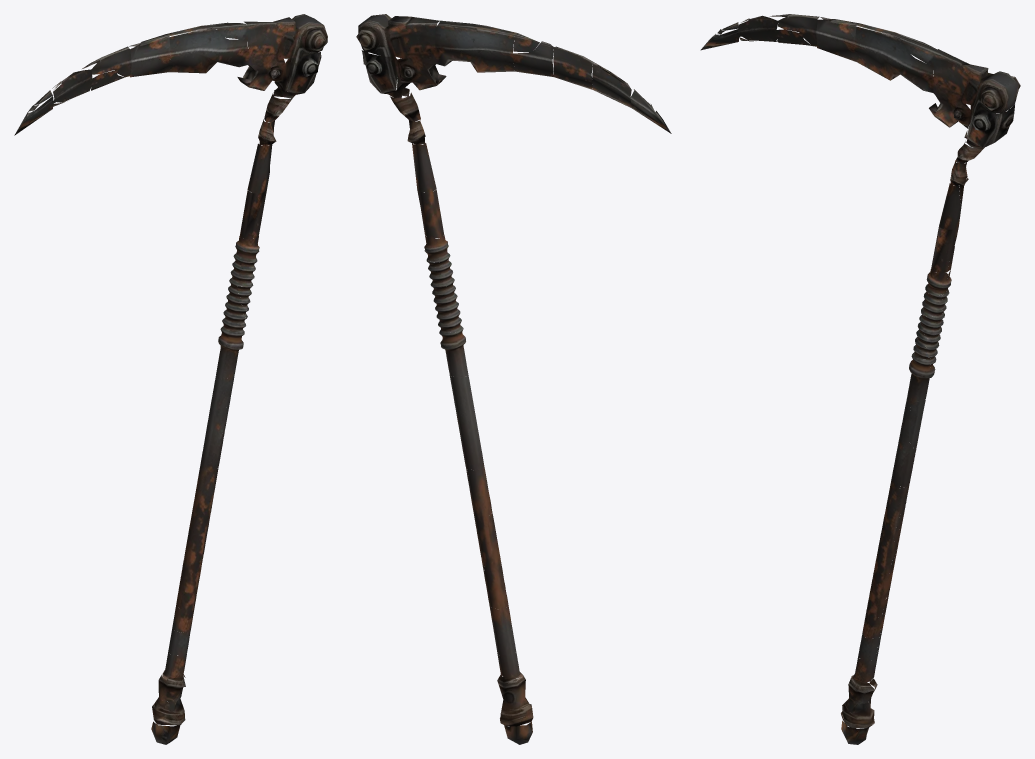
Rendered from ain_scythe_tex.glb.
3 views of the same model, side by side, from view 1: azimuth 30°, elevation 25°; view 2: azimuth 150°, elevation 25°; view 3: azimuth 330°, elevation 25° (orthographic).
Parts seen in each view (by area): view 1: Mesh; view 2: Mesh; view 3: Mesh.
Part boxes in pixels (x1=…): Mesh: x1=14, y1=14, x2=327, y2=744; Mesh: x1=356, y1=14, x2=671, y2=744; Mesh: x1=700, y1=14, x2=1020, y2=744.
Size of the model in its own units: 0.8173 by 1.8 by 0.116.
Materials: 1 (1 with a texture image).
